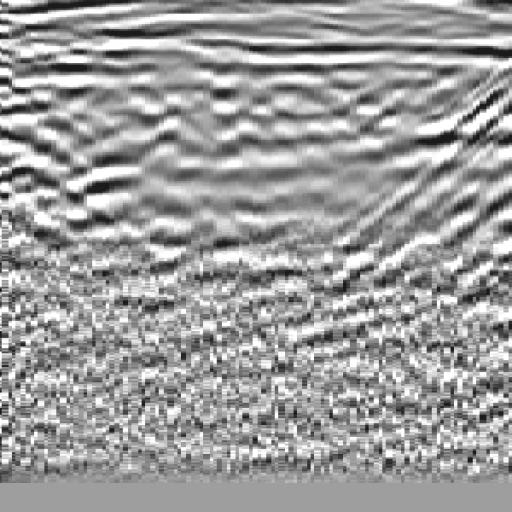metalic: (76, 19, 224, 289)
nonmetalic: (393, 34, 512, 293)
